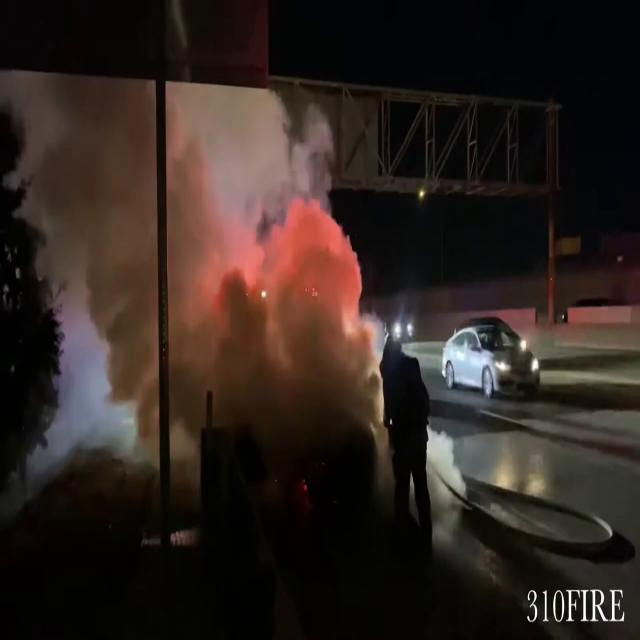Smoke: (167, 85, 329, 331), (0, 74, 156, 265)
